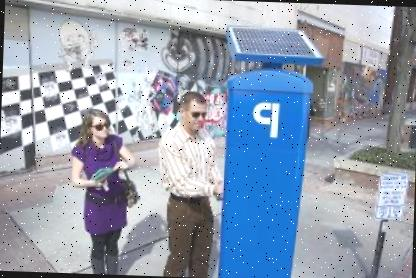person: (63, 104, 148, 276), (153, 86, 227, 278)
